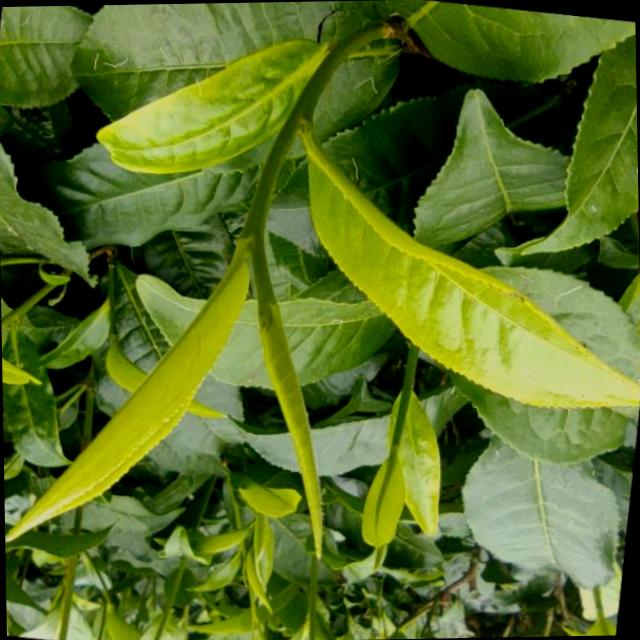Stem: (244, 179, 272, 223), (389, 410, 405, 445)
